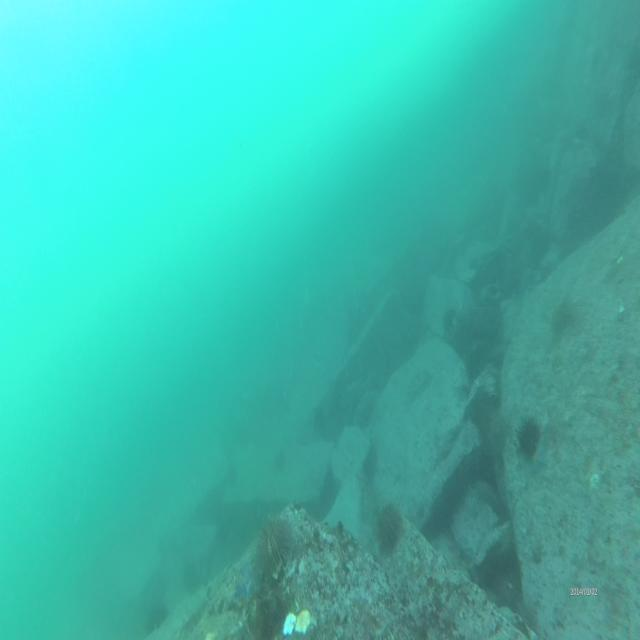echinus: (252, 521, 290, 566), (481, 416, 507, 457), (376, 503, 400, 542), (518, 418, 540, 457)
starfish: (232, 565, 259, 603)
